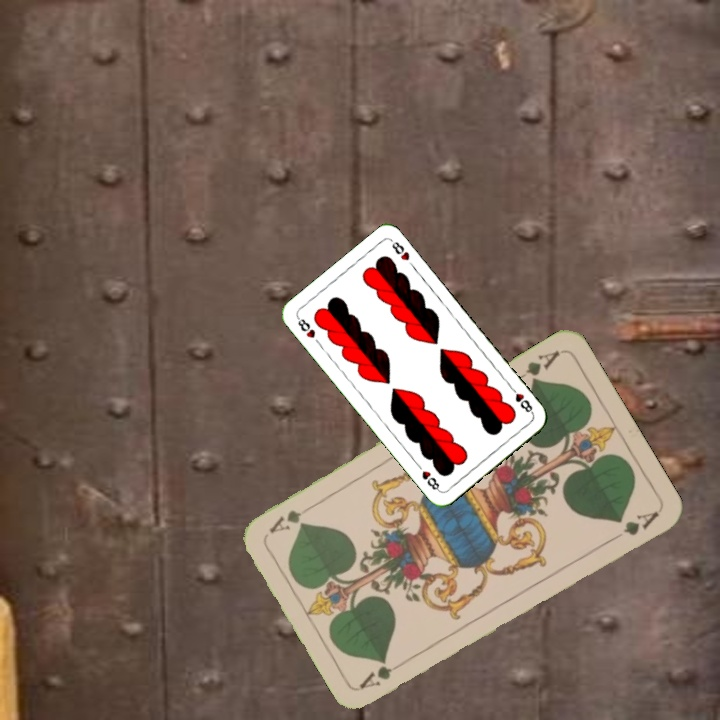GA: (510, 346, 563, 386), (356, 655, 411, 692)
H8: (506, 382, 536, 417), (293, 313, 318, 341)
